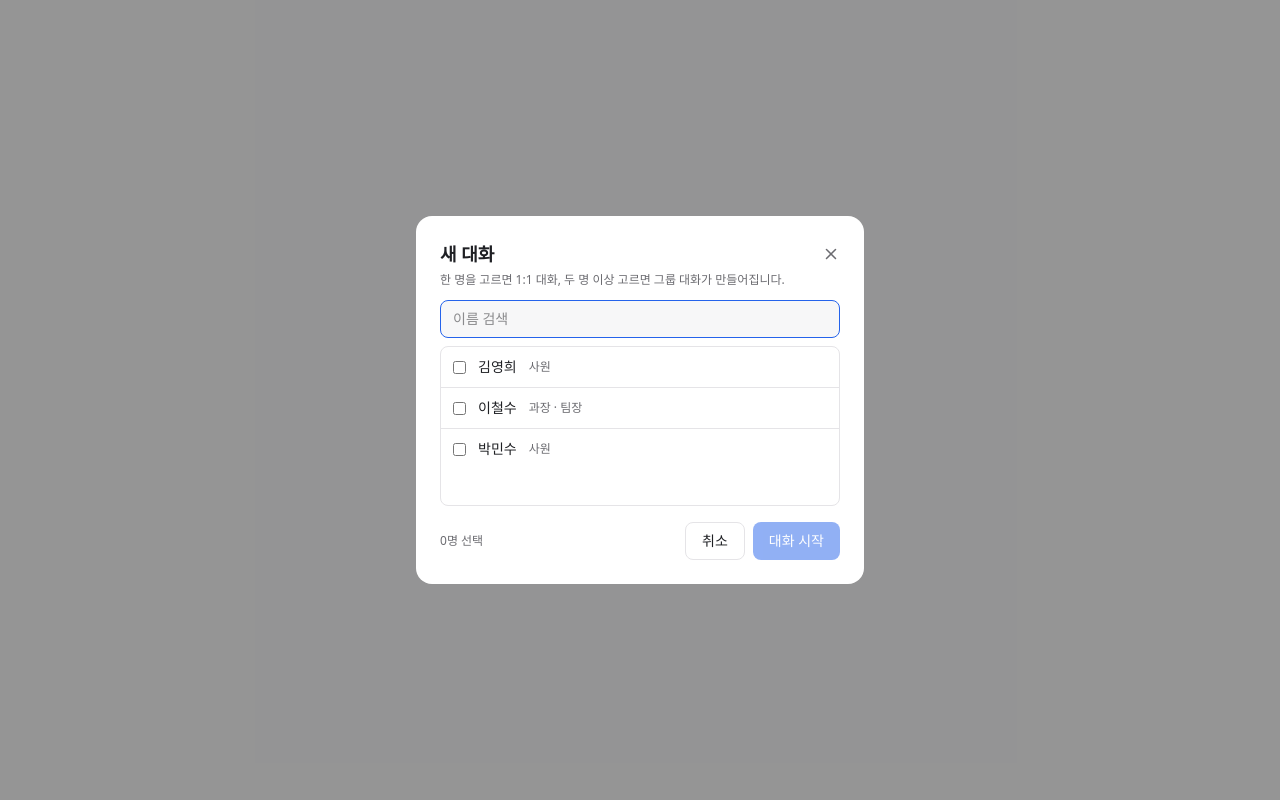
NewConversationModal › 서버가 거절하면 그 문구를 보여 주고 닫지 않는다
The width and height of the screenshot is (1280, 800).
Click the checkbox labelled "김영희 사원".
click(460, 367)  # box [453,360,466,374]
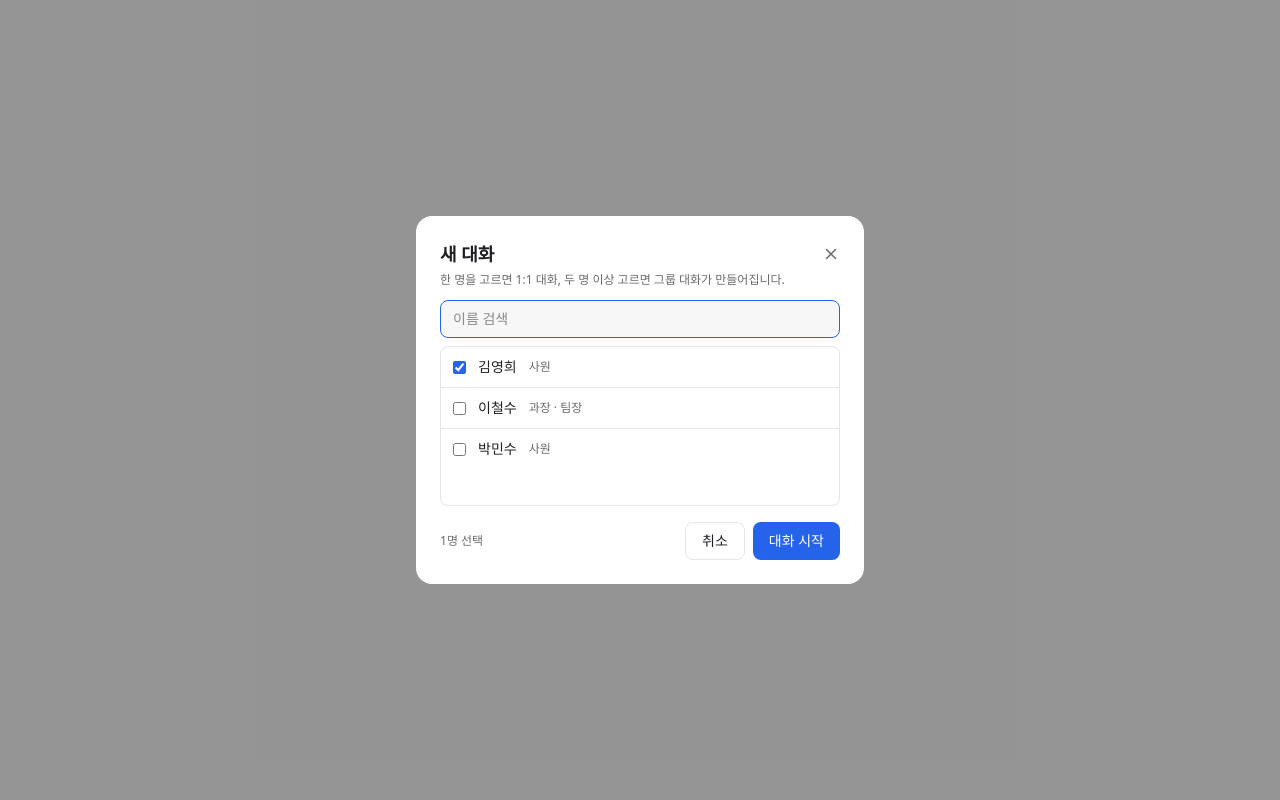
Click the button "대화 시작".
click(796, 541)  # box [753,522,840,560]
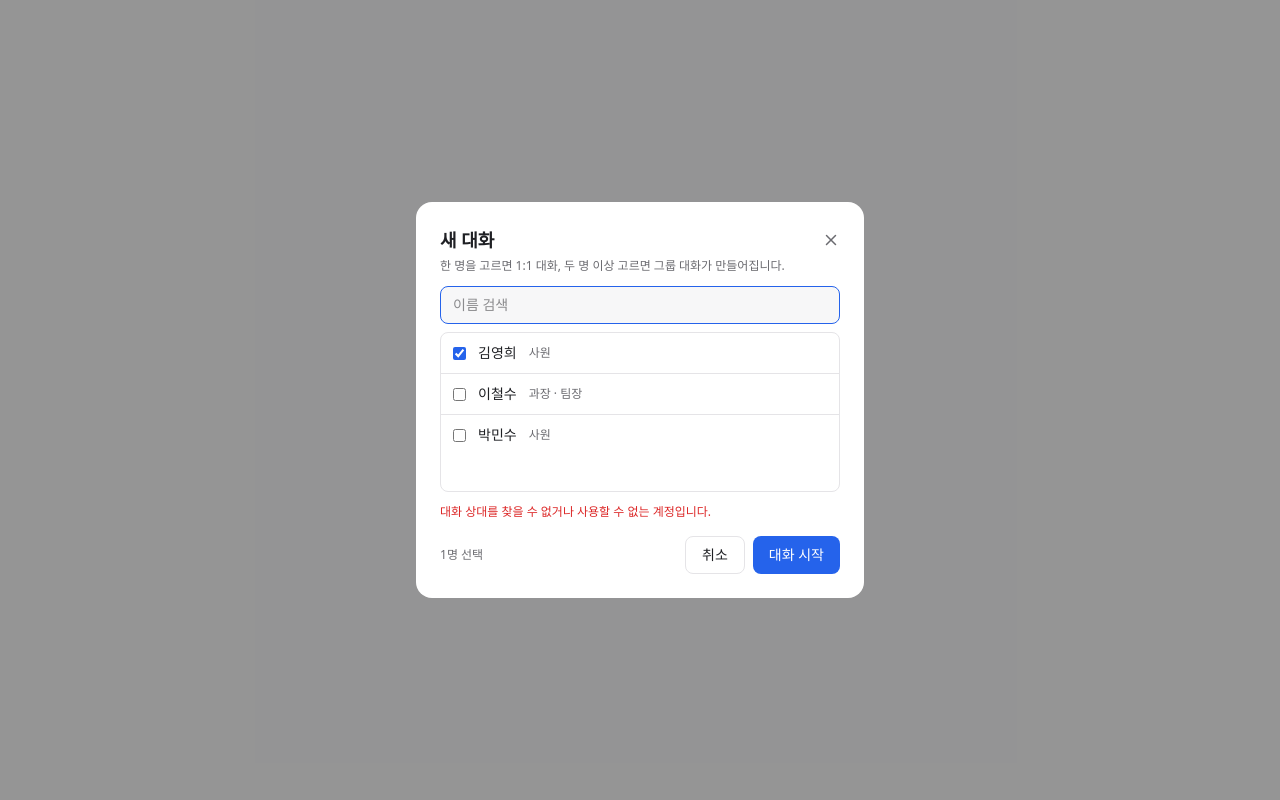
Expected: the message shows "사용할 수 없는 계정", [440,503,711,520]
